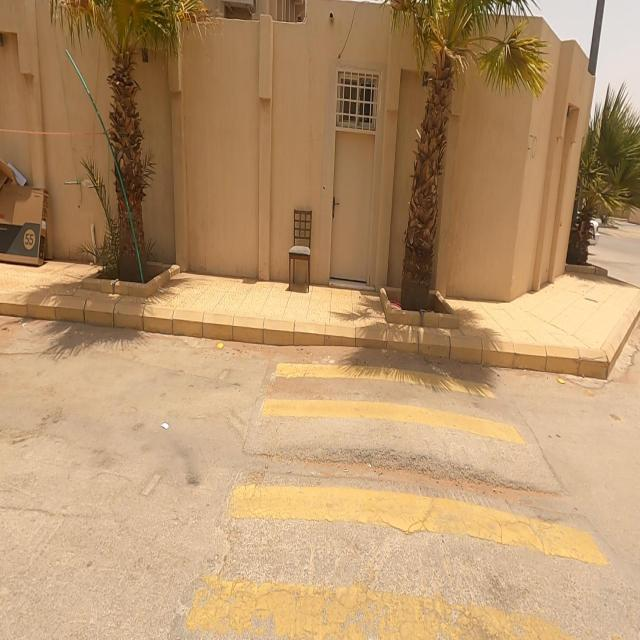Graffiti: (529, 132, 538, 165)
